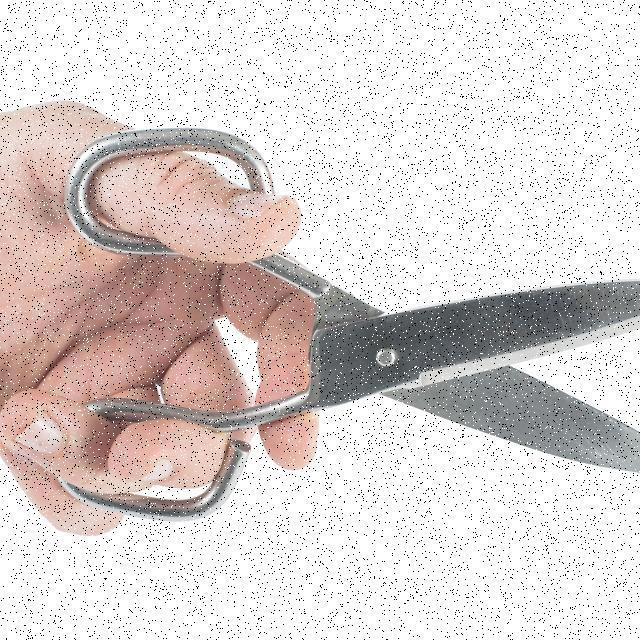scissors: (53, 120, 640, 528)
